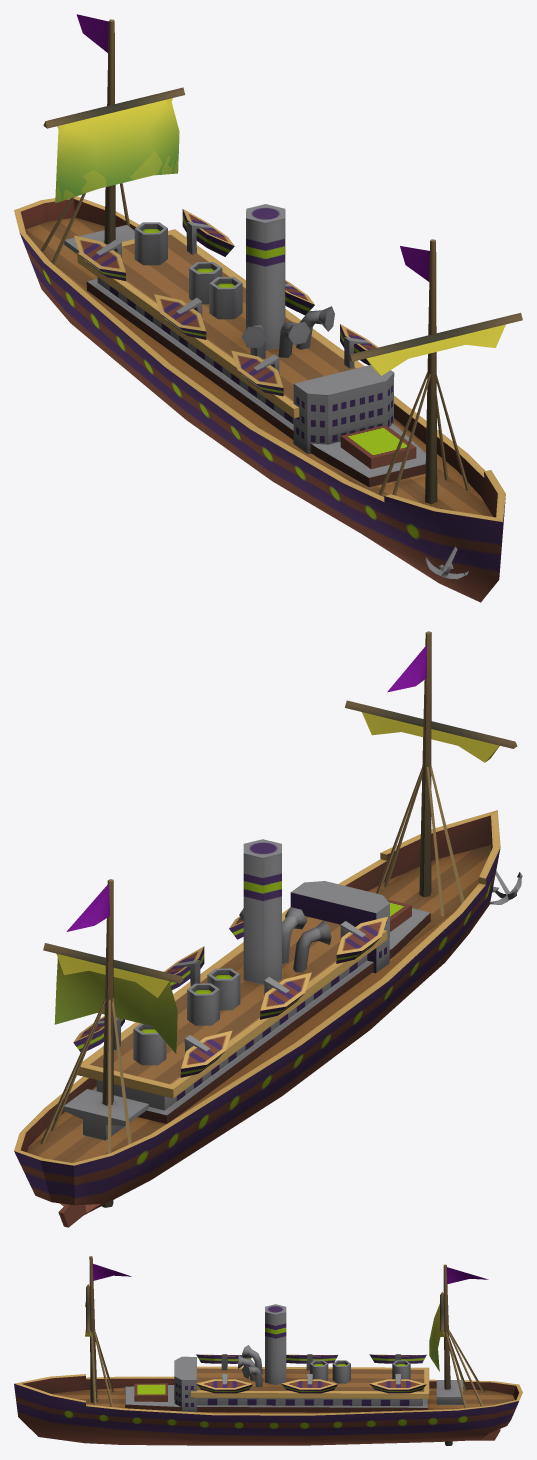
File: SS_Chelyuskin.FBX
3 views of the same model, one above another, from view 1: azimuth 30°, elevation 25°; view 2: azimuth 150°, elevation 25°; view 3: azimuth 270°, elevation 25° (orthographic). The views are drawn at different scales.
Visible parts, largest first — view 1: main, unfolded, parts, upgrade2, upgrade4, upgrade3, upgrade1, folded; view 2: main, parts, unfolded, upgrade4, upgrade2, upgrade3, upgrade1, folded; view 3: main, upgrade4, parts, upgrade1, upgrade2, upgrade3, unfolded.
Part boxes in pixels (x1,y1,x2,y2): main: [14, 196, 505, 602]; unfolded: [55, 99, 376, 372]; parts: [40, 19, 522, 504]; upgrade2: [134, 222, 394, 454]; upgrade4: [74, 209, 378, 396]; upgrade3: [189, 262, 468, 579]; upgrade1: [64, 14, 429, 469]; folded: [57, 98, 505, 375]; main: [14, 810, 500, 1227]; parts: [40, 631, 517, 1207]; unfolded: [54, 712, 498, 1053]; upgrade4: [73, 916, 387, 1077]; upgrade2: [133, 881, 389, 1065]; upgrade3: [187, 871, 522, 1025]; upgrade1: [63, 645, 426, 1140]; folded: [56, 745, 499, 997]; main: [14, 1304, 522, 1445]; upgrade4: [196, 1354, 426, 1393]; parts: [86, 1256, 485, 1445]; upgrade1: [92, 1264, 488, 1404]; upgrade2: [174, 1356, 410, 1412]; upgrade3: [238, 1345, 350, 1387]; unfolded: [86, 1304, 441, 1371].
Size of the model in its own units: 62.05 by 119 by 291.
2 materials, 2 textured.
